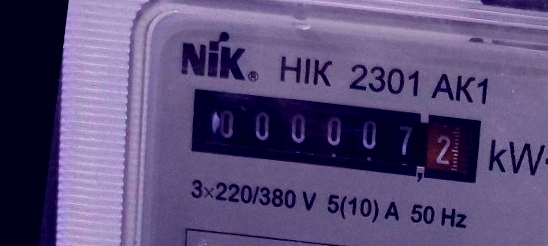0: (283, 108, 311, 149), (321, 113, 346, 152), (213, 105, 239, 142), (355, 115, 380, 153), (250, 107, 274, 144)
2: (430, 131, 455, 169)
7: (391, 120, 416, 161)
screen: (180, 78, 492, 194)
